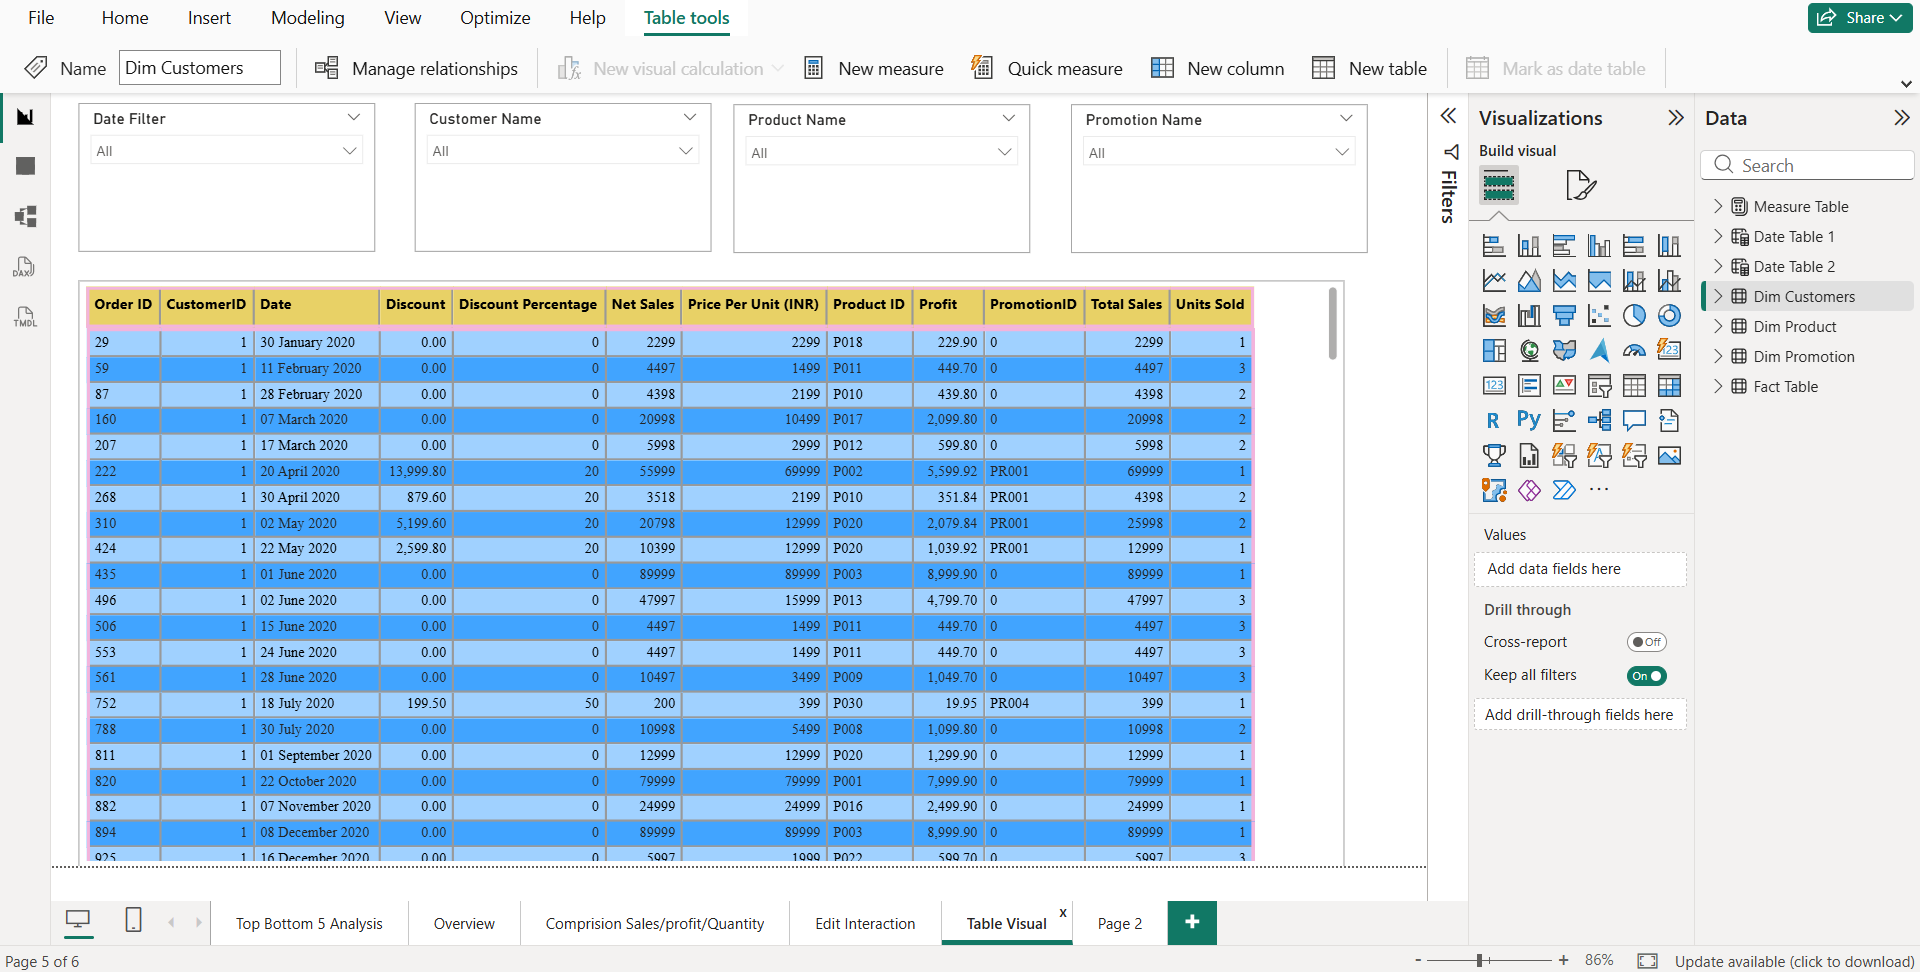

Layout of this report page (visuals, bound fields, positions):
{"tool":"powerbi","page":{"name":"Table Visual","canvas":[1280,720],"ordinal":4},"visuals":[{"type":"tableEx","fields":{"Values":["Fact Table.Order ID","Fact Table.CustomerID","Fact Table.Date (dd/mm/yyyy)","Fact Table.Discount","Fact Table.Discount Percentage","Fact Table.Net Sales","Fact Table.Price Per Unit (INR)","Fact Table.Product ID","Fact Table.Profit","Fact Table.PromotionID","Fact Table.Total Sales","Fact Table.Units Sold"]},"box":[26.1,174.3,1177.4,546.1],"z":4000},{"type":"slicer","fields":{"Values":["Fact Table.Date (dd/mm/yyyy)"]},"box":[26.1,9.6,275.8,138.6],"z":6500},{"type":"slicer","fields":{"Values":["Dim Customers.Customer Name"]},"box":[338.9,9.6,275.8,138.6],"z":7000},{"type":"slicer","fields":{"Values":["Dim Product.Product Name"]},"box":[635.5,10.8,275.8,138.6],"z":7500},{"type":"slicer","fields":{"Values":["Dim Promotion.Promotion Name"]},"box":[948.3,10.8,275.8,138.6],"z":8000}]}

Visuals, with their boxes on the page's 1280x720 design canvas (x1, y1, x2, y2). These are canvas units, not pixel positions in the 1920x972 screenshot, which may show the page scaled, cropped or inside an application window:
tableEx - Fact Table.Order ID x Fact Table.CustomerID: left=26, top=174, right=1204, bottom=720
slicer - Fact Table.Date (dd/mm/yyyy): left=26, top=10, right=302, bottom=148
slicer - Dim Customers.Customer Name: left=339, top=10, right=615, bottom=148
slicer - Dim Product.Product Name: left=636, top=11, right=911, bottom=149
slicer - Dim Promotion.Promotion Name: left=948, top=11, right=1224, bottom=149
